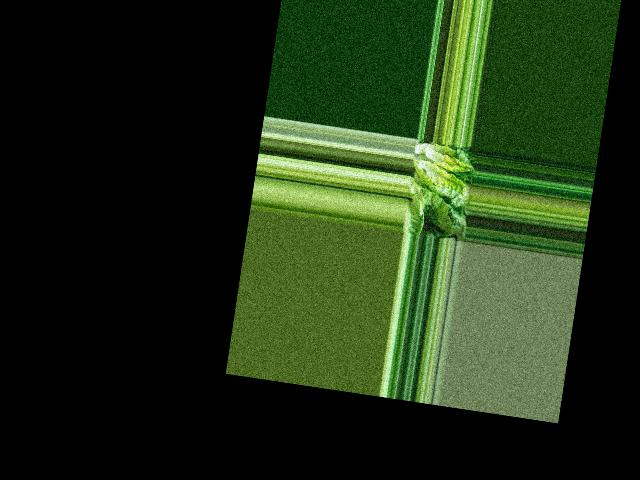lettuce: (406, 140, 474, 209)
